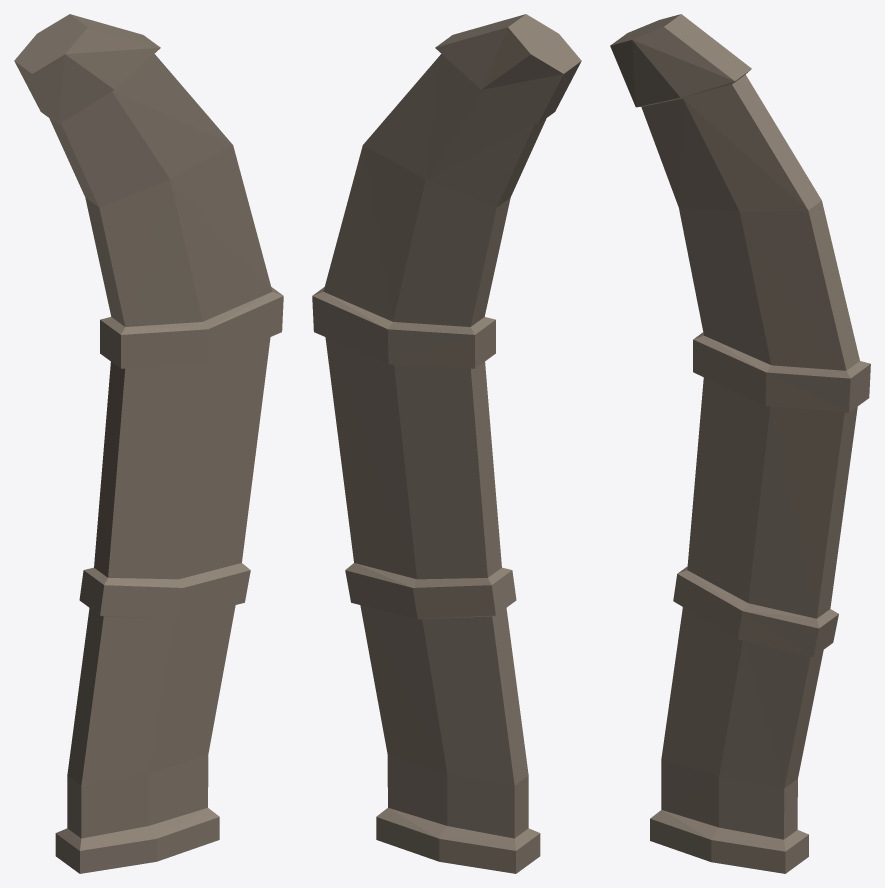
The model's file is SM_Wep_Cutlass_03_Sheath.glb.
3 views of the same model, side by side, from view 1: azimuth 30°, elevation 25°; view 2: azimuth 150°, elevation 25°; view 3: azimuth 330°, elevation 25° (orthographic). The views are drawn at different scales.
Parts seen in each view (by area): view 1: SM_Wep_Cutlass_03_Sheath_00; view 2: SM_Wep_Cutlass_03_Sheath_00; view 3: SM_Wep_Cutlass_03_Sheath_00.
Boxes of the visible parts, x1,y1,x2,y2 form: SM_Wep_Cutlass_03_Sheath_00: (14,14,283,873); SM_Wep_Cutlass_03_Sheath_00: (312,14,581,873); SM_Wep_Cutlass_03_Sheath_00: (610,14,870,873).
Size of the model in its own units: 0.2712 by 0.8744 by 0.071.
Materials: 1 (1 with a texture image).
